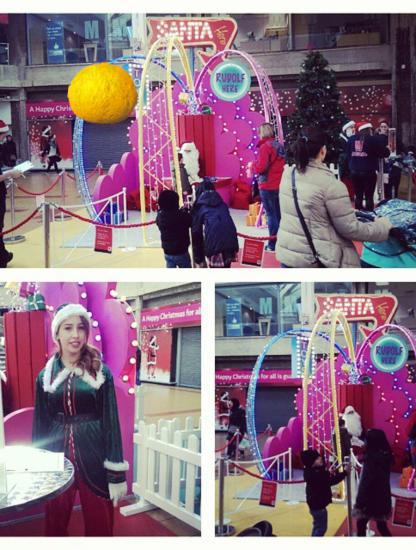Cantaloupe: (68, 58, 138, 128)
